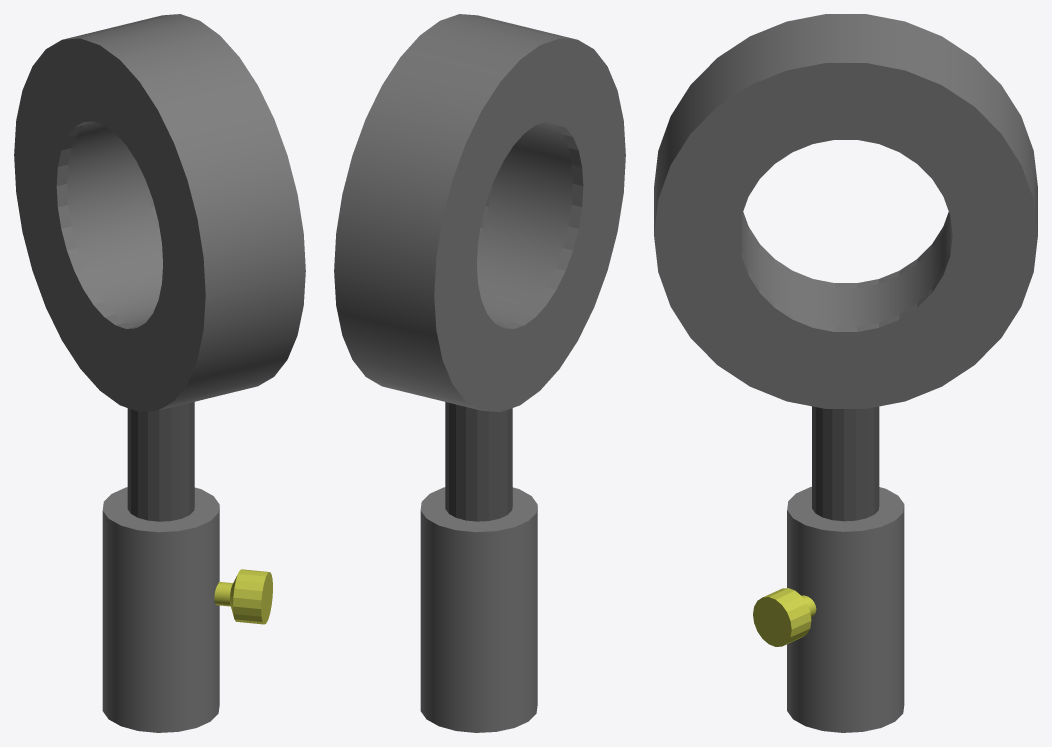
File: Optic_for_vision.glb
3 views of the same model, side by side, from view 1: azimuth 30°, elevation 25°; view 2: azimuth 150°, elevation 25°; view 3: azimuth 270°, elevation 25° (orthographic).
Parts seen in each view (by area): view 1: Cylinder112, Cylinder363, Object030, Object029; view 2: Cylinder112, Cylinder363, Object030; view 3: Cylinder112, Cylinder363, Object030, Object029.
Part boxes in pixels (x1,y1,x2,y2): Cylinder112: (14,14,305,411); Cylinder363: (102,487,219,732); Object030: (127,402,194,521); Object029: (214,569,272,624); Cylinder112: (334,14,625,412); Cylinder363: (420,487,537,732); Object030: (445,402,512,521); Cylinder112: (654,14,1037,408); Cylinder363: (787,486,904,732); Object030: (812,406,879,521); Object029: (753,588,816,646).
Size of the model in its own units: 1.33 by 6.25 by 3.25.
